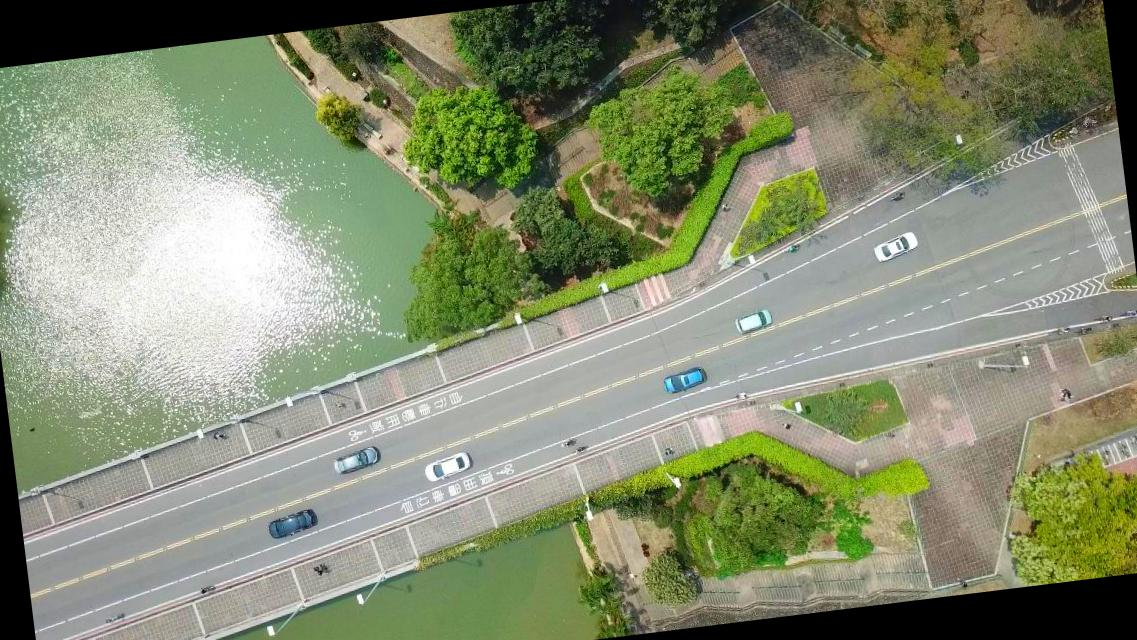vehicle: (422, 450, 474, 484), (871, 230, 920, 263), (266, 508, 316, 540), (331, 444, 381, 475), (662, 367, 706, 395), (733, 308, 773, 334)
